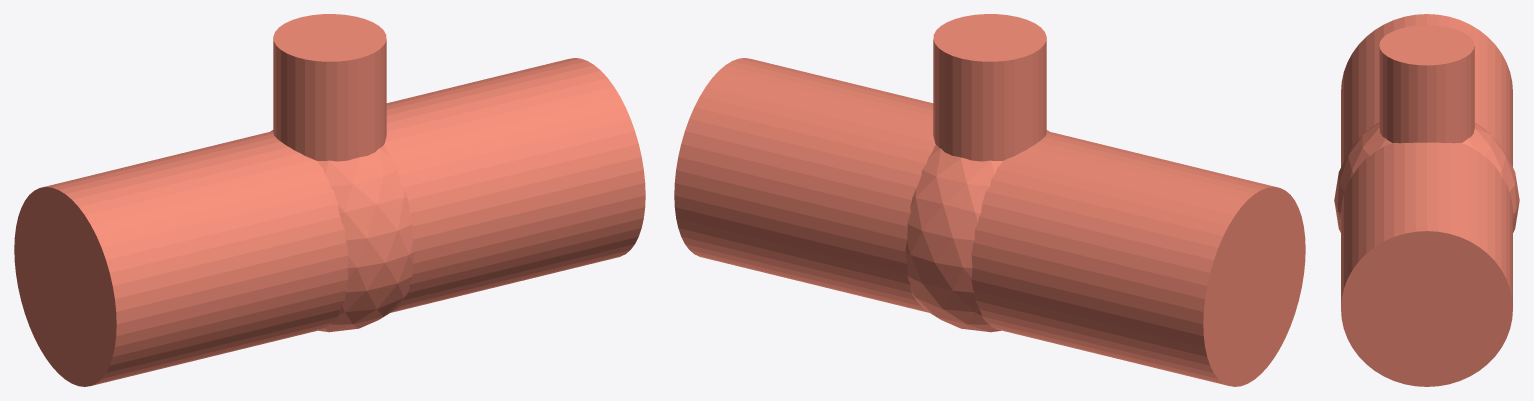
The model's file is SM_Fitting_Tee_Reducing_2x1.glb.
3 renders of one model, left to right at view 1: azimuth 30°, elevation 25°; view 2: azimuth 150°, elevation 25°; view 3: azimuth 270°, elevation 25°, orthographic. The views are drawn at different scales.
Visible parts, largest first — view 1: world; view 2: world; view 3: world.
Part boxes in pixels (x1,y1,x2,y2): world: (14, 14, 645, 386); world: (674, 14, 1305, 386); world: (1334, 14, 1519, 386).
Bounding box in the file's own units: 0.18 × 0.0925 × 0.065.
